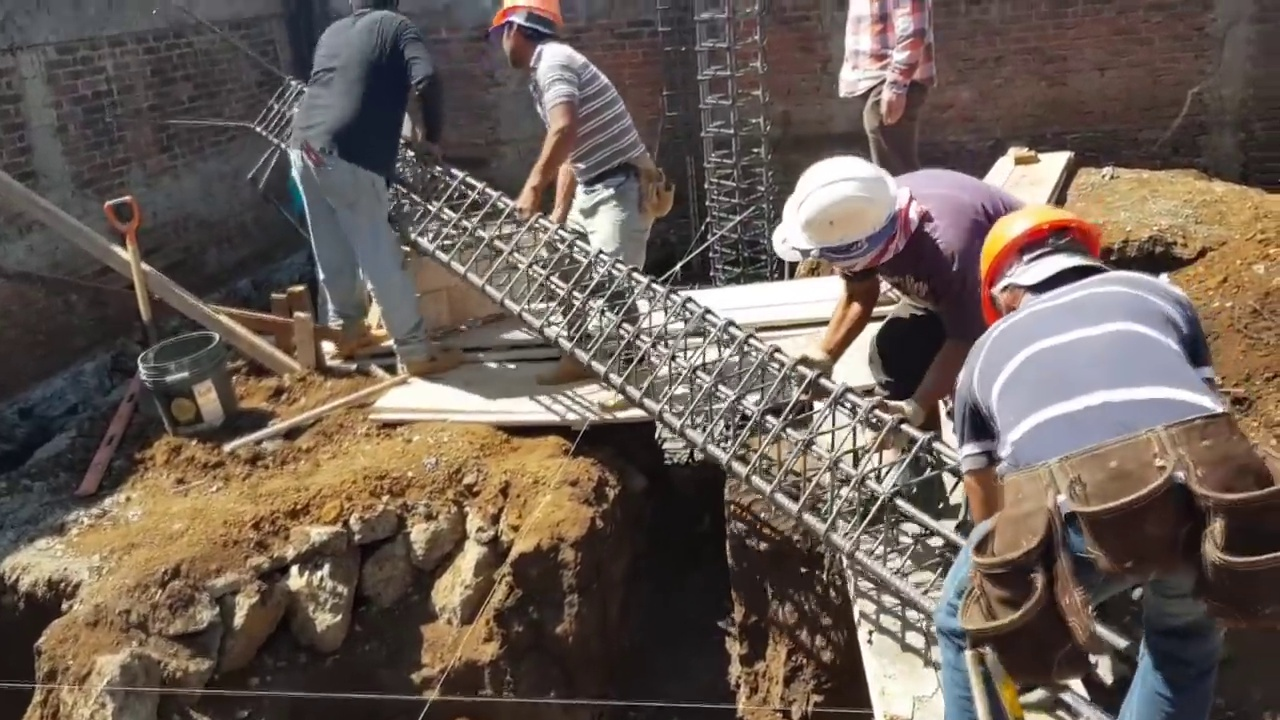helmet: (980, 204, 1106, 320), (778, 154, 901, 252), (488, 2, 563, 31)
helmet-on: (983, 198, 1118, 325), (773, 155, 912, 274), (488, 2, 567, 72)
person: (952, 205, 1275, 634), (775, 148, 1030, 514), (486, 2, 666, 387), (291, 3, 445, 368), (838, 0, 940, 179)
